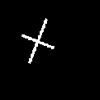single_crochet: (22, 19, 53, 62)
